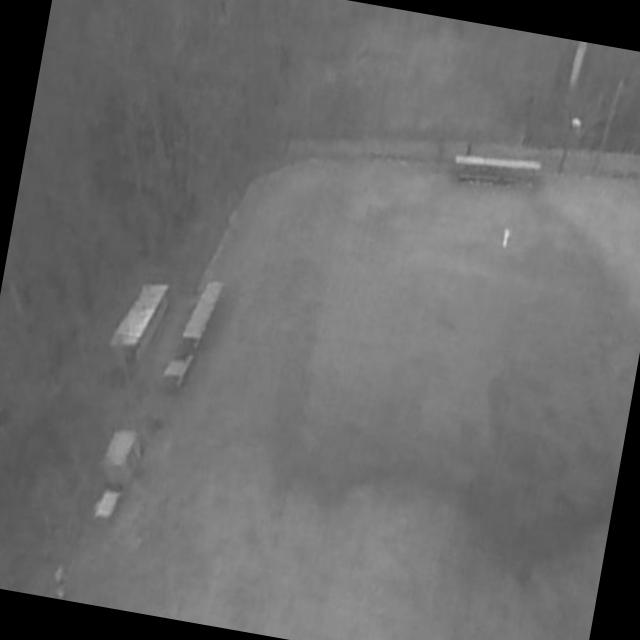person: (500, 227, 513, 251)
